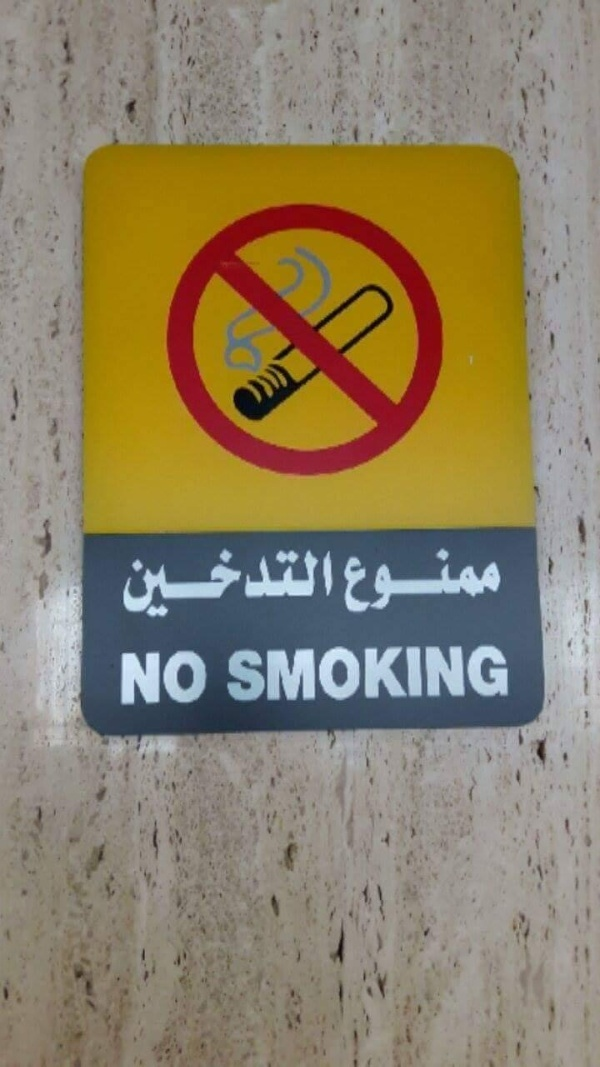text: (129, 542, 144, 622), (145, 542, 160, 622), (161, 542, 176, 622), (177, 542, 192, 622), (193, 542, 208, 622), (209, 542, 224, 622), (225, 542, 240, 622), (241, 542, 256, 622), (257, 542, 272, 622), (273, 542, 288, 622), (289, 542, 304, 622), (305, 542, 320, 622), (321, 542, 336, 622), (353, 547, 368, 616), (369, 547, 384, 616), (385, 547, 400, 616), (401, 547, 416, 616), (417, 547, 432, 616), (433, 547, 448, 616), (449, 547, 464, 616), (465, 547, 480, 616), (481, 547, 496, 616), (497, 642, 513, 703), (129, 648, 144, 709), (145, 648, 160, 709), (161, 648, 176, 709), (177, 648, 192, 709), (193, 648, 208, 709), (241, 642, 256, 703), (257, 642, 272, 703), (273, 642, 288, 703), (289, 642, 304, 703), (305, 642, 320, 703), (321, 642, 336, 703), (337, 642, 352, 703), (353, 642, 368, 703), (369, 642, 384, 703), (385, 642, 400, 703), (401, 642, 416, 703), (417, 642, 432, 703), (433, 642, 448, 703), (449, 642, 464, 703), (465, 642, 480, 703), (481, 642, 496, 703), (226, 642, 240, 703), (341, 547, 352, 616), (497, 547, 506, 616), (118, 648, 128, 709), (124, 542, 128, 622), (209, 648, 211, 709), (337, 542, 338, 622)
